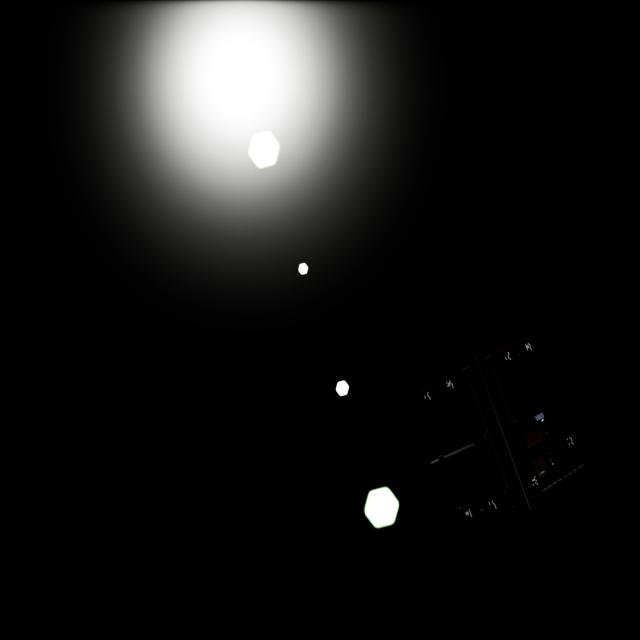medium_debris: (406, 325, 598, 528)
